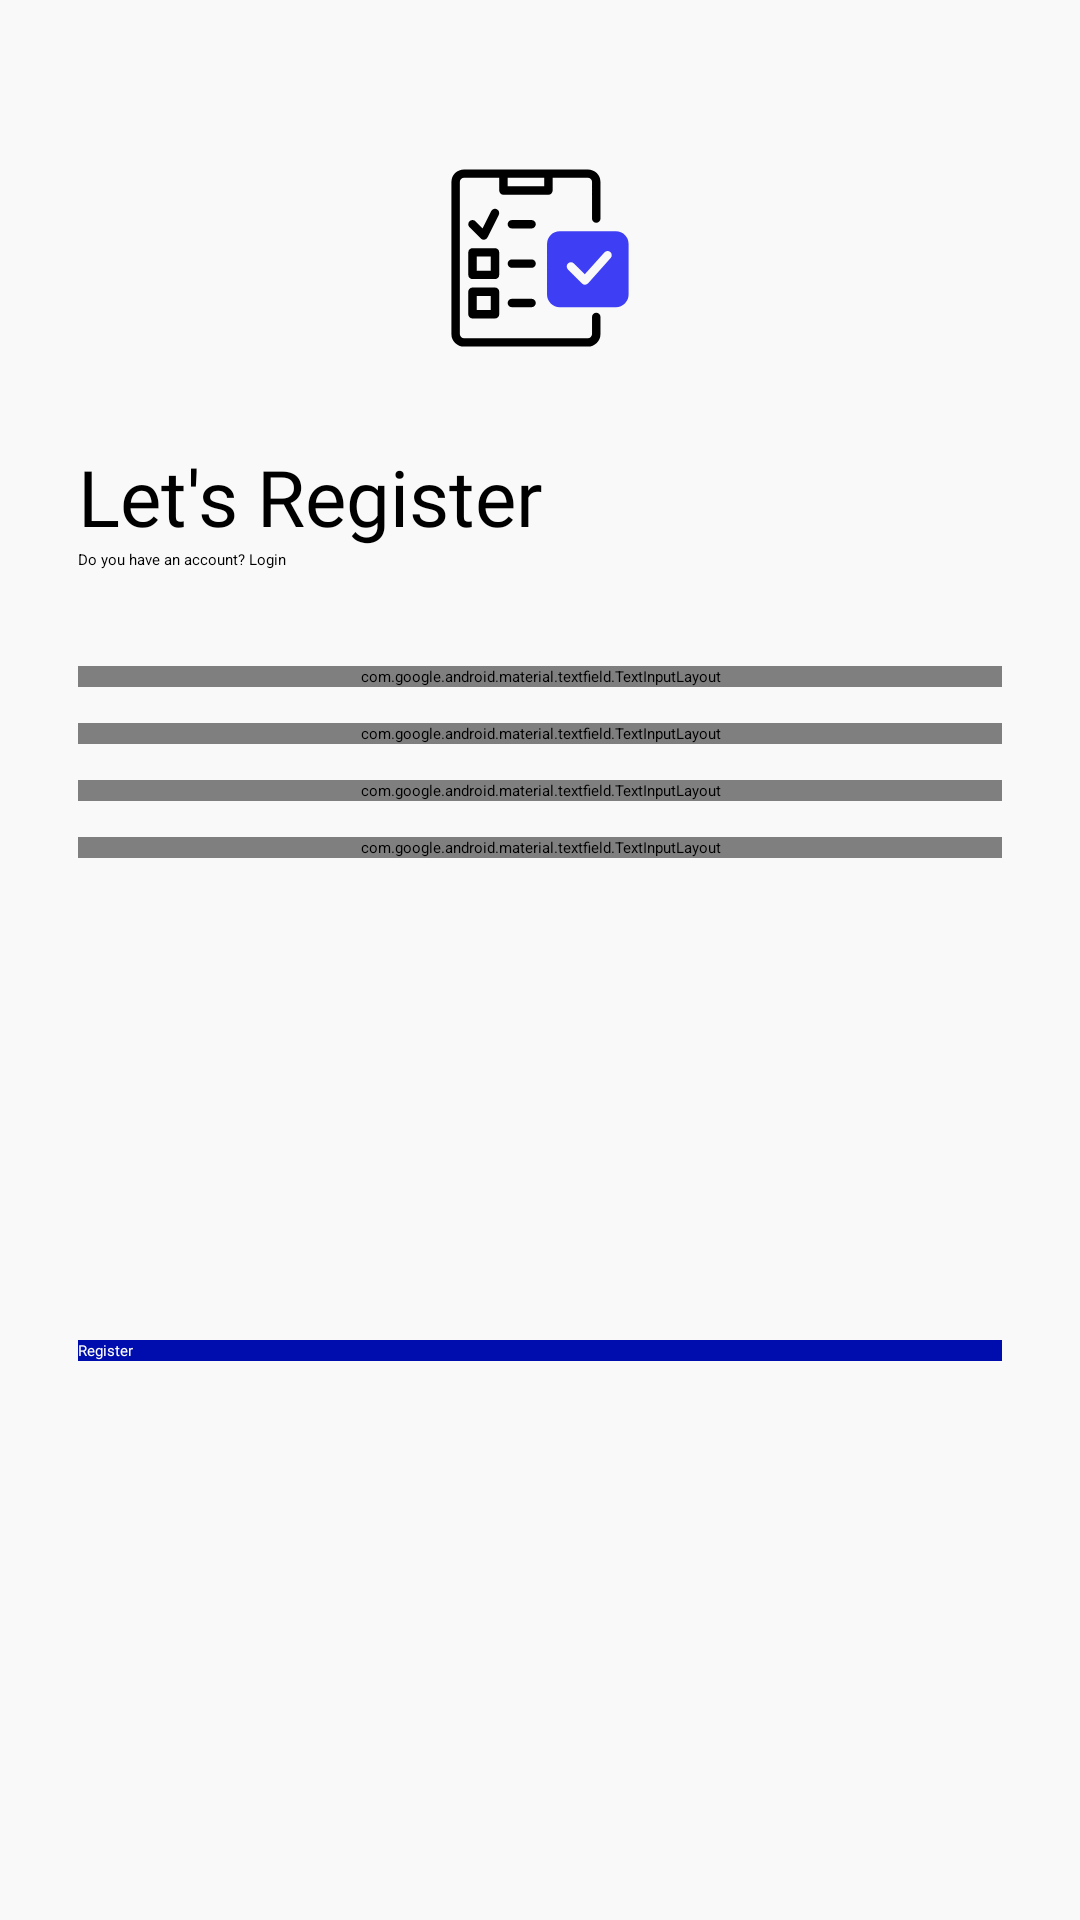

Where icons sit on this 1080px x 1920px app screen, as (x1, y1, x2, y2):
checklist: (451, 169, 629, 347)
